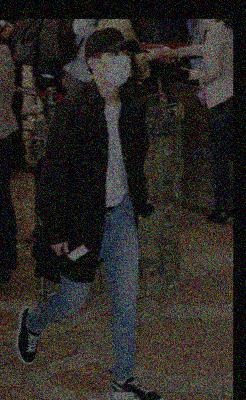with_mask: (102, 50, 132, 88)
